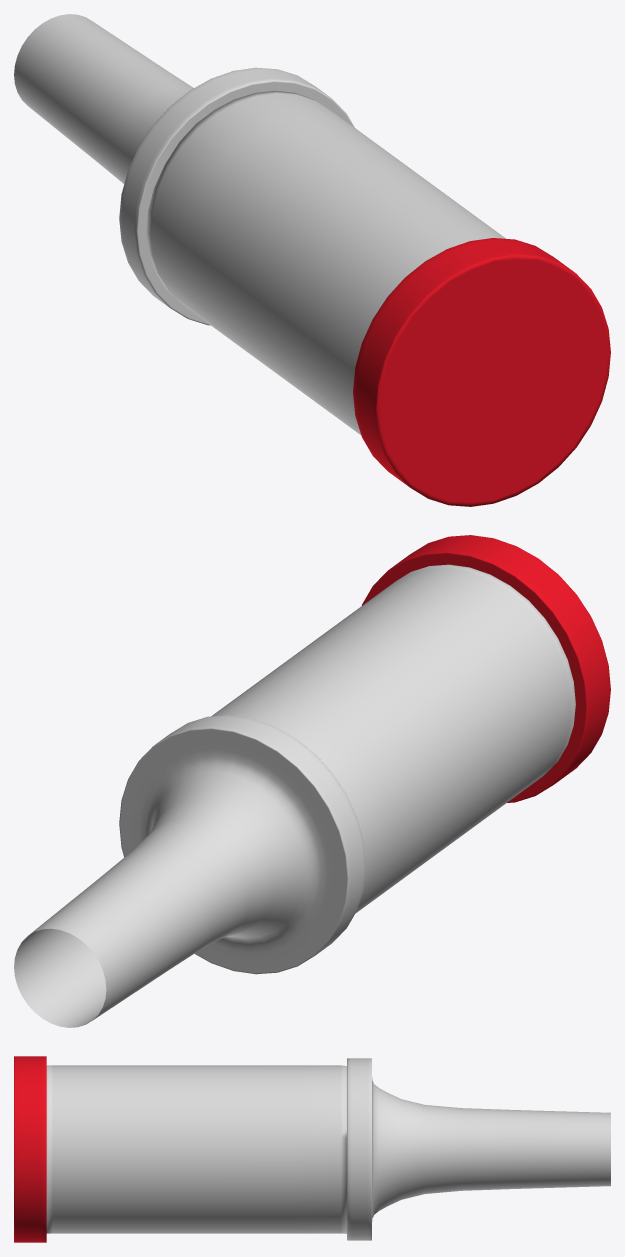
File: JUICE-liquid.glb
3 views of the same model, one above another, from view 1: azimuth 30°, elevation 25°; view 2: azimuth 150°, elevation 25°; view 3: azimuth 270°, elevation 25° (orthographic). The views are drawn at different scales.
Visible parts, largest first — view 1: Cylinder; view 2: Cylinder; view 3: Cylinder.
Boxes of the visible parts, x1=… form: Cylinder: x1=14, y1=14, x2=610, y2=506; Cylinder: x1=14, y1=535, x2=610, y2=1027; Cylinder: x1=14, y1=1056, x2=610, y2=1242.
Size of the model in its own units: 0.2161 by 0.2161 by 0.6908.
